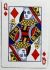queen: (1, 1, 49, 69)
